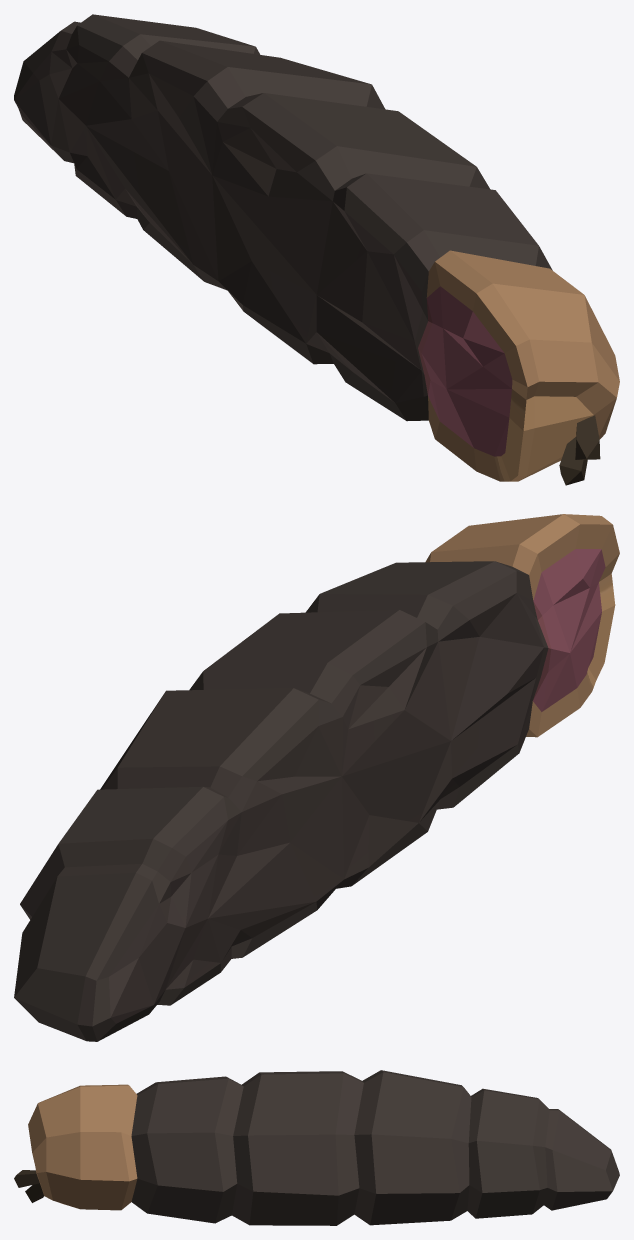
The model's file is worlds_SM_Prop_Vendor_Bug_03.gltf.
3 views of the same model, one above another, from view 1: azimuth 30°, elevation 25°; view 2: azimuth 150°, elevation 25°; view 3: azimuth 270°, elevation 25° (orthographic). The views are drawn at different scales.
Visible parts, largest first — view 1: SM_Prop_Vendor_Bug_03; view 2: SM_Prop_Vendor_Bug_03; view 3: SM_Prop_Vendor_Bug_03.
Boxes of the visible parts, x1=… form: SM_Prop_Vendor_Bug_03: x1=14, y1=14, x2=619, y2=485; SM_Prop_Vendor_Bug_03: x1=14, y1=514, x2=619, y2=1041; SM_Prop_Vendor_Bug_03: x1=14, y1=1070, x2=619, y2=1225.
Bounding box in the file's own units: 0.1725 × 0.1644 × 0.7301.
1 material, 1 textured.
